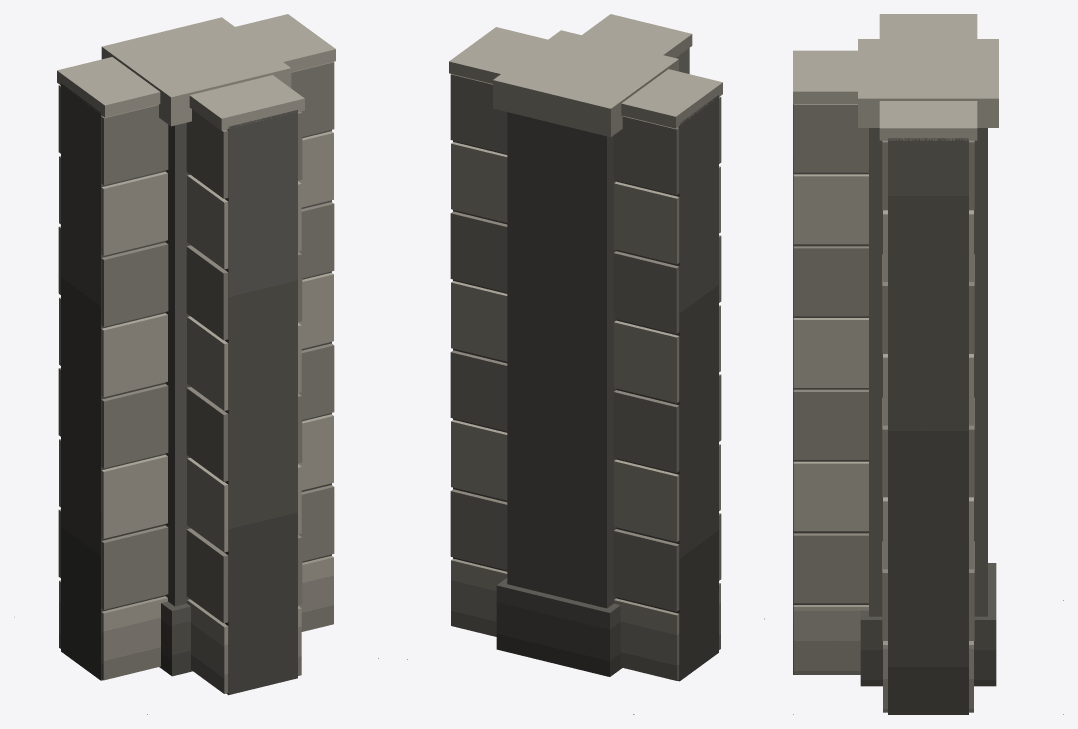
Rendered from wall_stone_tee.glb.
3 views of the same model, side by side, from view 1: azimuth 30°, elevation 25°; view 2: azimuth 150°, elevation 25°; view 3: azimuth 270°, elevation 25° (orthographic). The views are drawn at different scales.
Size of the model in its own units: 1 by 2.4 by 1.
Materials: 1 (1 with a texture image).
